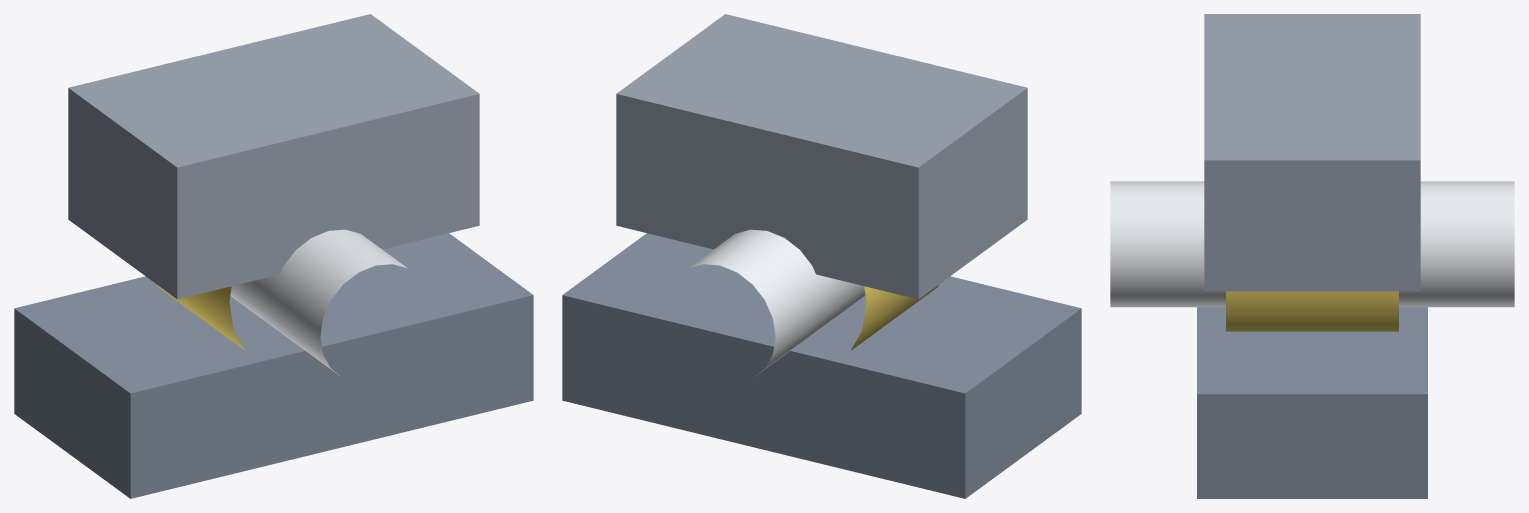
File: plummer_block_bearings.glb
The picture shows the model from 3 angles, left to right: view 1: azimuth 30°, elevation 25°; view 2: azimuth 150°, elevation 25°; view 3: azimuth 270°, elevation 25°; orthographic projection.
Parts seen in each view (by area): view 1: PlummerBlockBearingCap, PlummerBlockCastIronBase, RotatingShaftJournal, SplitBrassBearingBushLower; view 2: PlummerBlockBearingCap, PlummerBlockCastIronBase, RotatingShaftJournal, SplitBrassBearingBushLower; view 3: PlummerBlockBearingCap, PlummerBlockCastIronBase, RotatingShaftJournal, SplitBrassBearingBushLower.
Part boxes in pixels (box(x1,y1,x2,y2)): PlummerBlockBearingCap: box(68, 14, 479, 299); PlummerBlockCastIronBase: box(14, 233, 533, 498); RotatingShaftJournal: box(230, 229, 407, 375); SplitBrassBearingBushLower: box(157, 285, 244, 350); PlummerBlockBearingCap: box(616, 14, 1027, 299); PlummerBlockCastIronBase: box(562, 233, 1081, 498); RotatingShaftJournal: box(688, 229, 865, 375); SplitBrassBearingBushLower: box(851, 285, 938, 350); PlummerBlockBearingCap: box(1204, 14, 1420, 291); PlummerBlockCastIronBase: box(1197, 307, 1427, 498); RotatingShaftJournal: box(1110, 181, 1514, 307); SplitBrassBearingBushLower: box(1226, 291, 1398, 331).
Bounding box in the file's own units: 1.6 × 1.2 × 1.4.
